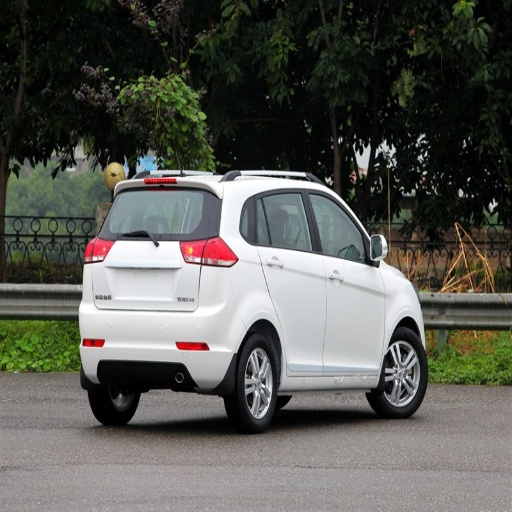back_bumper: (78, 265, 246, 390)
back_right_door: (260, 188, 326, 375)
trunk: (88, 241, 203, 309)
